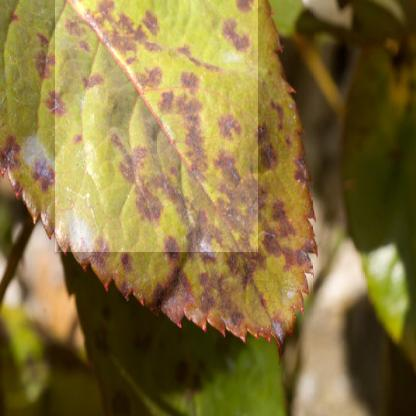black-spot: (55, 0, 258, 252)
